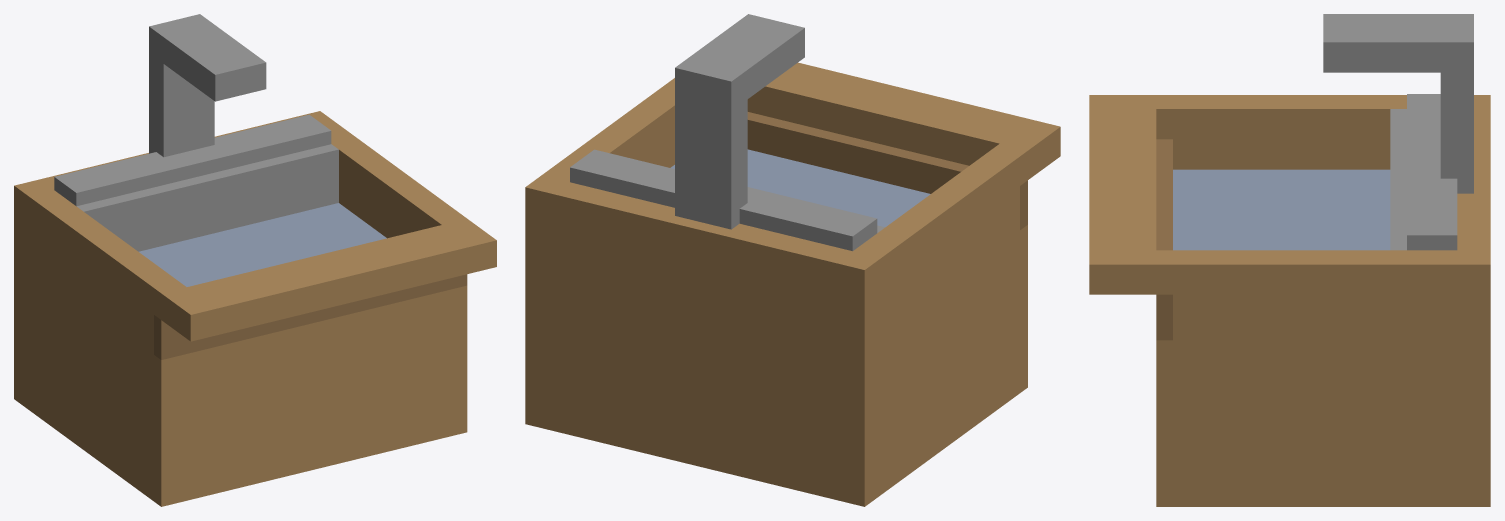
Rendered from memorial-table.vox-1-sink_water.obj.
3 renders of one model, left to right at view 1: azimuth 30°, elevation 25°; view 2: azimuth 150°, elevation 25°; view 3: azimuth 270°, elevation 25°, orthographic. The views are drawn at different scales.
Parts seen in each view (by area): view 1: sink_water; view 2: sink_water; view 3: sink_water.
Part boxes in pixels (x1,y1,x2,y2): sink_water: (14,14,496,506); sink_water: (525,14,1060,506); sink_water: (1089,14,1490,506).
Size of the model in its own units: 2.4 by 2.6 by 2.4.
1 material, 1 textured.
